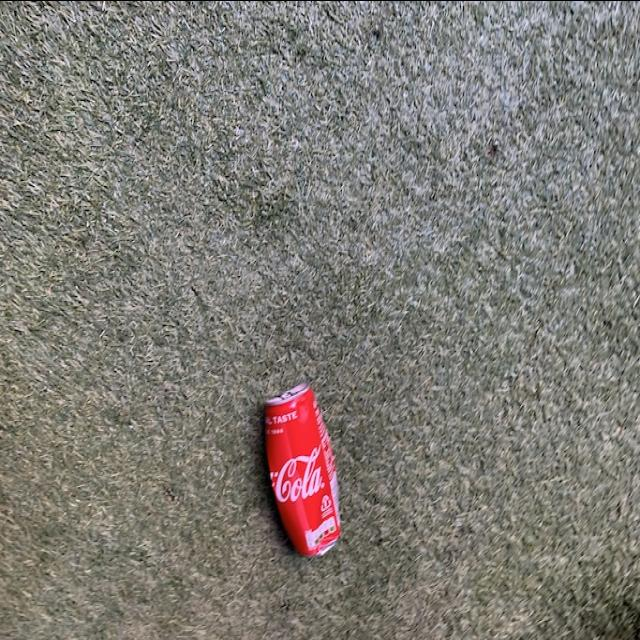Aluminum Can: (254, 372, 350, 564)
